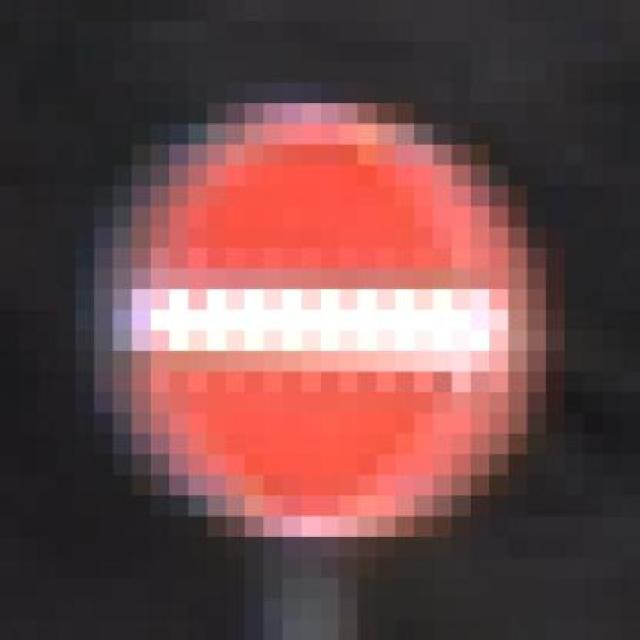No Entry: (76, 82, 564, 558)
